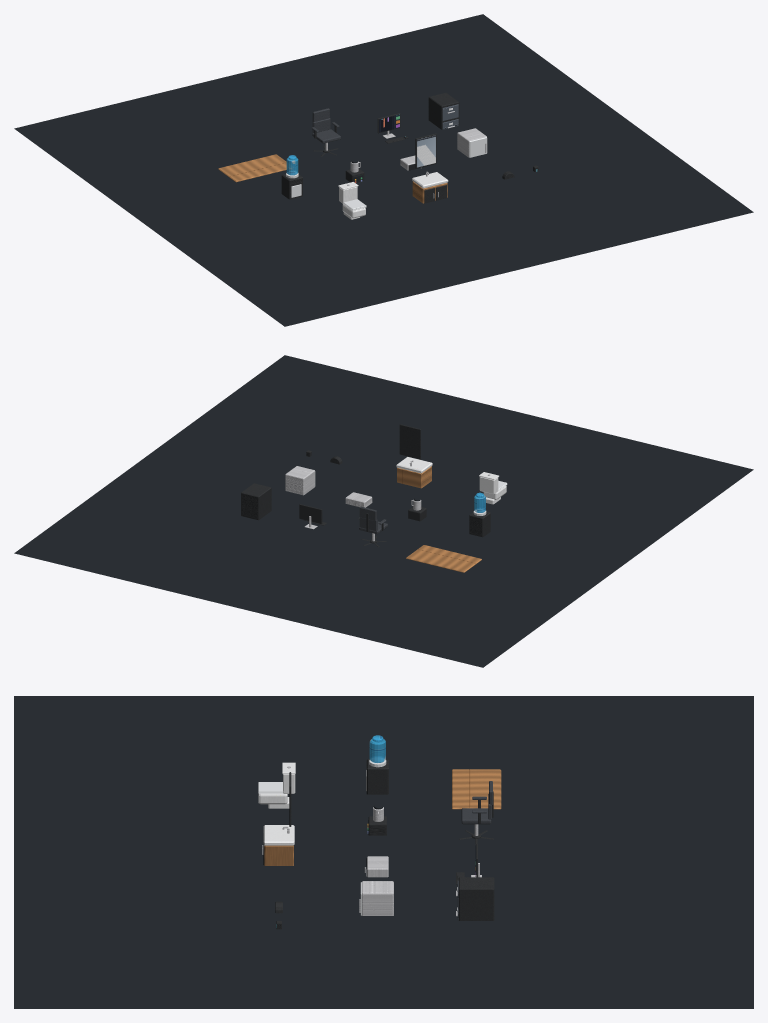
File: Office_Assets_All_Combined.obj
The picture shows the model from 3 angles, top to bottom: view 1: azimuth 30°, elevation 25°; view 2: azimuth 150°, elevation 25°; view 3: azimuth 270°, elevation 25°; orthographic projection. The views are drawn at different scales.
Visible parts, largest first — view 1: Showroom_Floor, 10_Lavamanos_Mueble, 01_Escritorio_Oficina, 04_Archivador_Metalico, 02_Silla_Ejecutiva, 05_Dispensador_Agua, 08_Frigobar_Oficina, 09_Inodoro_Bano; view 2: Showroom_Floor, 10_Lavamanos_Mueble, 01_Escritorio_Oficina, 04_Archivador_Metalico, 08_Frigobar_Oficina, 05_Dispensador_Agua, 09_Inodoro_Bano, 02_Silla_Ejecutiva; view 3: Showroom_Floor, 01_Escritorio_Oficina, 04_Archivador_Metalico, 10_Lavamanos_Mueble, 08_Frigobar_Oficina, 05_Dispensador_Agua, 09_Inodoro_Bano, 02_Silla_Ejecutiva.
Part boxes in pixels (x1=…): Showroom_Floor: x1=14, y1=14, x2=753, y2=326; 10_Lavamanos_Mueble: x1=412, y1=133, x2=448, y2=203; 01_Escritorio_Oficina: x1=218, y1=154, x2=286, y2=182; 04_Archivador_Metalico: x1=428, y1=93, x2=459, y2=129; 02_Silla_Ejecutiva: x1=311, y1=108, x2=340, y2=156; 05_Dispensador_Agua: x1=281, y1=155, x2=302, y2=199; 08_Frigobar_Oficina: x1=457, y1=128, x2=487, y2=157; 09_Inodoro_Bano: x1=338, y1=182, x2=366, y2=219; Showroom_Floor: x1=14, y1=355, x2=753, y2=667; 10_Lavamanos_Mueble: x1=396, y1=424, x2=432, y2=488; 01_Escritorio_Oficina: x1=406, y1=545, x2=481, y2=572; 04_Archivador_Metalico: x1=241, y1=483, x2=271, y2=520; 08_Frigobar_Oficina: x1=285, y1=466, x2=315, y2=495; 05_Dispensador_Agua: x1=469, y1=492, x2=490, y2=537; 09_Inodoro_Bano: x1=479, y1=472, x2=507, y2=504; 02_Silla_Ejecutiva: x1=358, y1=506, x2=387, y2=547; Showroom_Floor: x1=14, y1=696, x2=753, y2=1008; 01_Escritorio_Oficina: x1=452, y1=769, x2=501, y2=809; 04_Archivador_Metalico: x1=456, y1=877, x2=494, y2=920; 10_Lavamanos_Mueble: x1=262, y1=772, x2=294, y2=865; 08_Frigobar_Oficina: x1=359, y1=881, x2=393, y2=915; 05_Dispensador_Agua: x1=366, y1=735, x2=388, y2=794; 09_Inodoro_Bano: x1=258, y1=762, x2=295, y2=808; 02_Silla_Ejecutiva: x1=459, y1=781, x2=493, y2=844.
Bounding box in the file's own units: 12 × 2.13 × 12.
